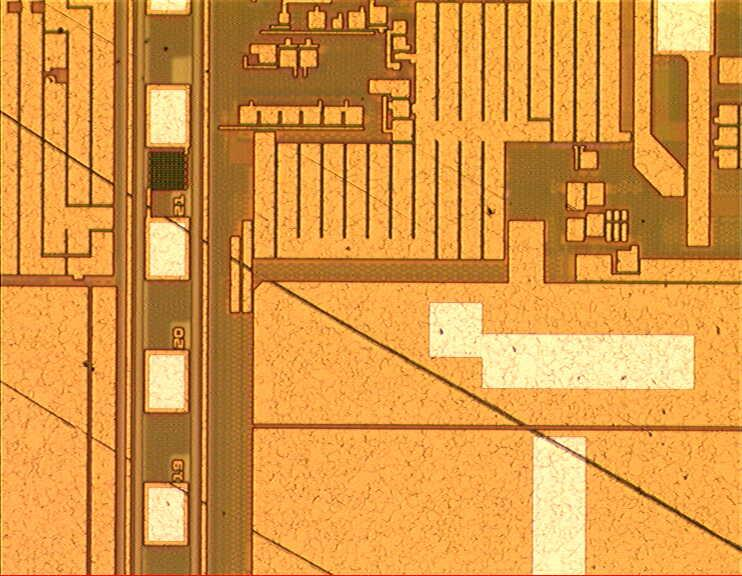SCRATCH: (1, 104, 742, 561), (32, 1, 553, 306), (1, 376, 339, 576)
